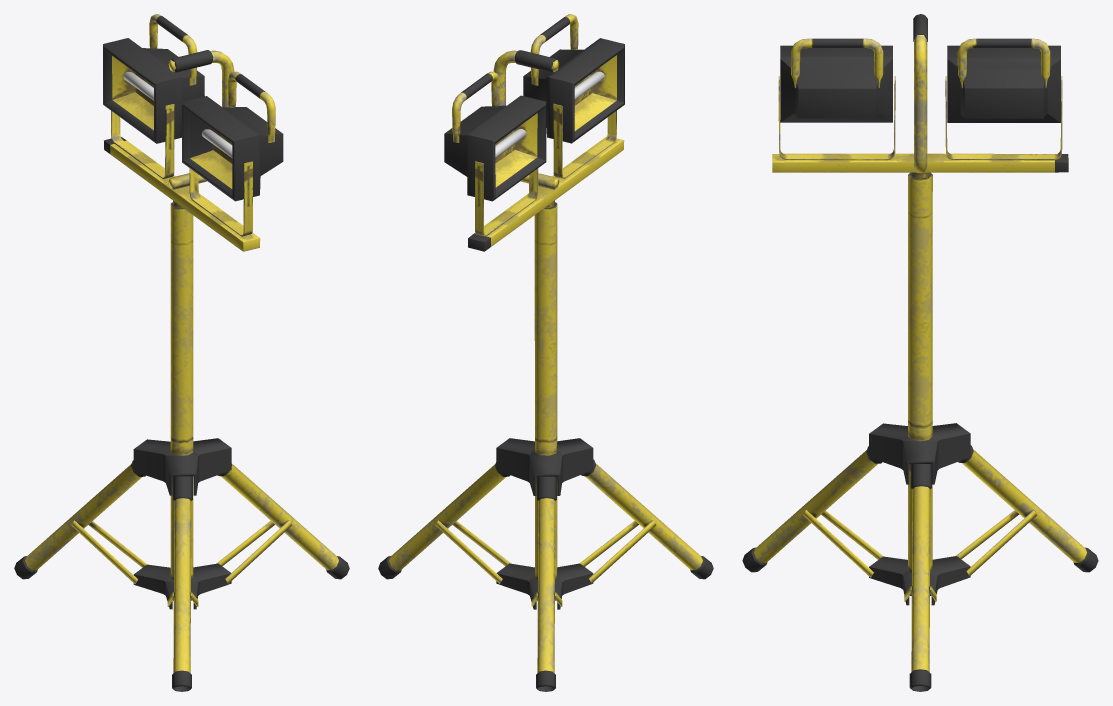
File: ConstructionLight_Low.fbx
3 renders of one model, left to right at view 1: azimuth 30°, elevation 25°; view 2: azimuth 150°, elevation 25°; view 3: azimuth 270°, elevation 25°, orthographic. The views are drawn at different scales.
Visible parts, largest first — view 1: Legs_Low, Light_Heads_Low, Light_Bulbs_low; view 2: Legs_Low, Light_Heads_Low, Light_Bulbs_low; view 3: Legs_Low, Light_Heads_Low.
Part boxes in pixels (<box>): Legs_Low: <box>14,137,349,691</box>; Light_Heads_Low: <box>103,14,283,236</box>; Light_Bulbs_low: <box>123,72,232,157</box>; Legs_Low: <box>378,136,713,691</box>; Light_Heads_Low: <box>444,14,624,236</box>; Light_Bulbs_low: <box>495,71,604,157</box>; Legs_Low: <box>742,153,1098,691</box>; Light_Heads_Low: <box>778,14,1062,172</box>.
Bounding box in the file's own units: 78.86 × 166 × 90.42.
